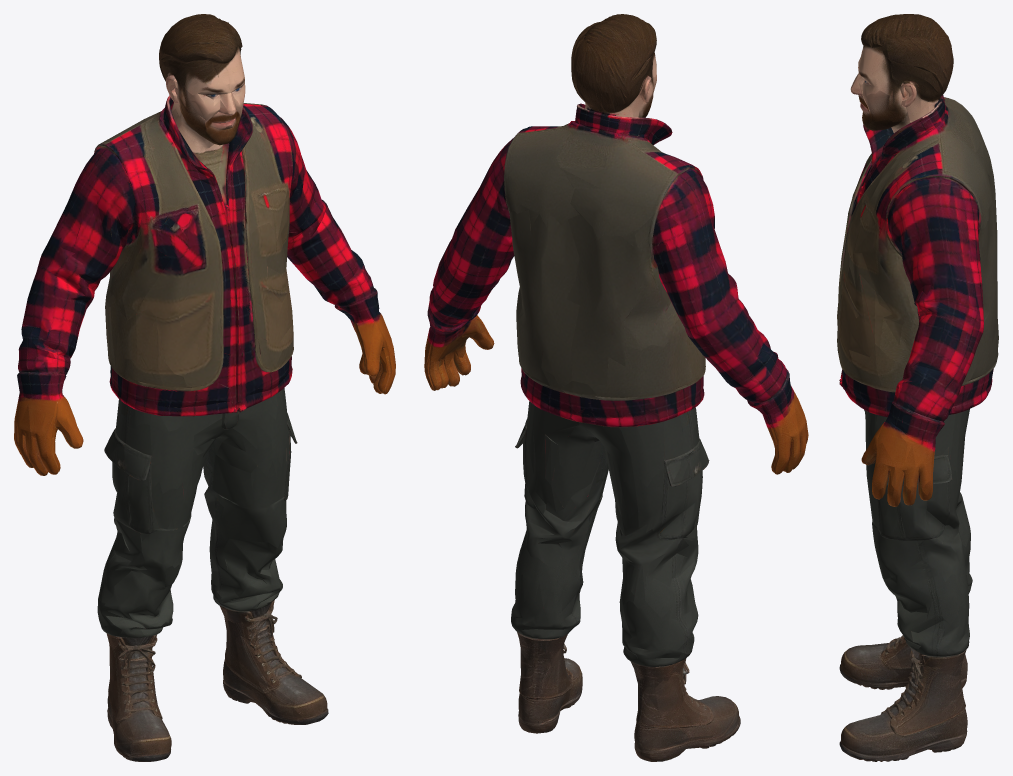
Rendered from hunter-flannel-fishing-waders.glb.
The picture shows the model from 3 angles, left to right: view 1: azimuth 30°, elevation 25°; view 2: azimuth 150°, elevation 25°; view 3: azimuth 270°, elevation 25°; orthographic projection.
Bounding box in the file's own units: 1.04 × 1.9 × 0.3994.
Materials: 1 (1 with a texture image).
